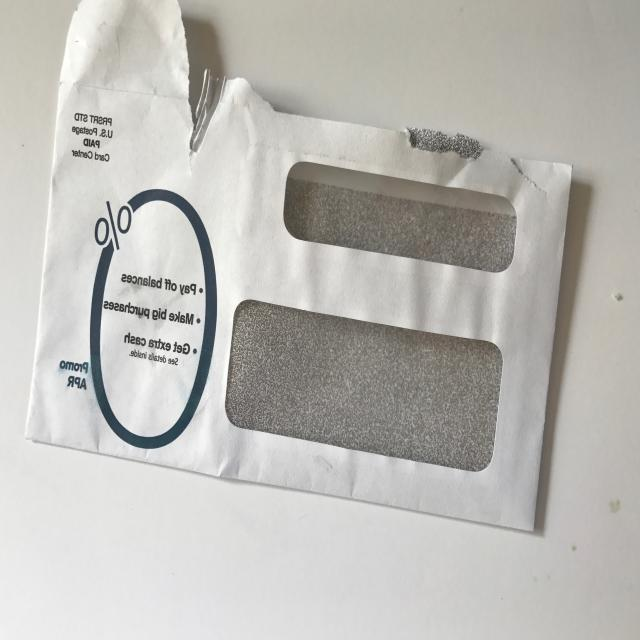paper: (13, 0, 592, 561)
